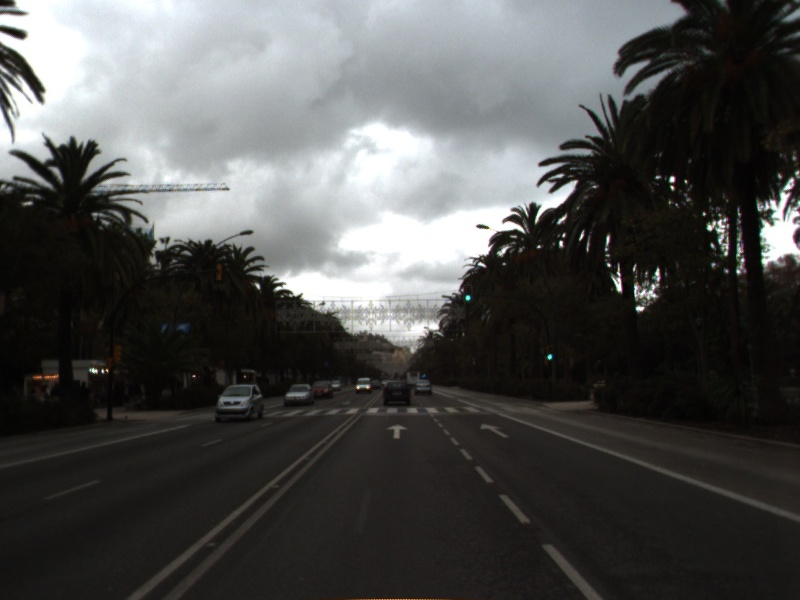STRAIGHT: (478, 421, 511, 440), (384, 422, 410, 440)
